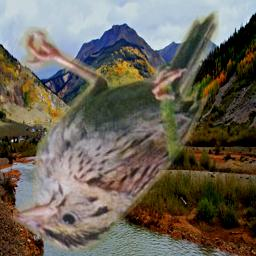Sparrow: (13, 11, 219, 252)
